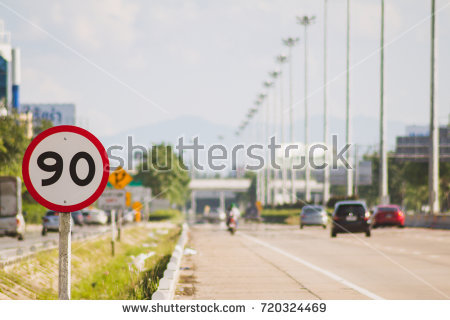Speed_limit_90km: (22, 126, 110, 211)
